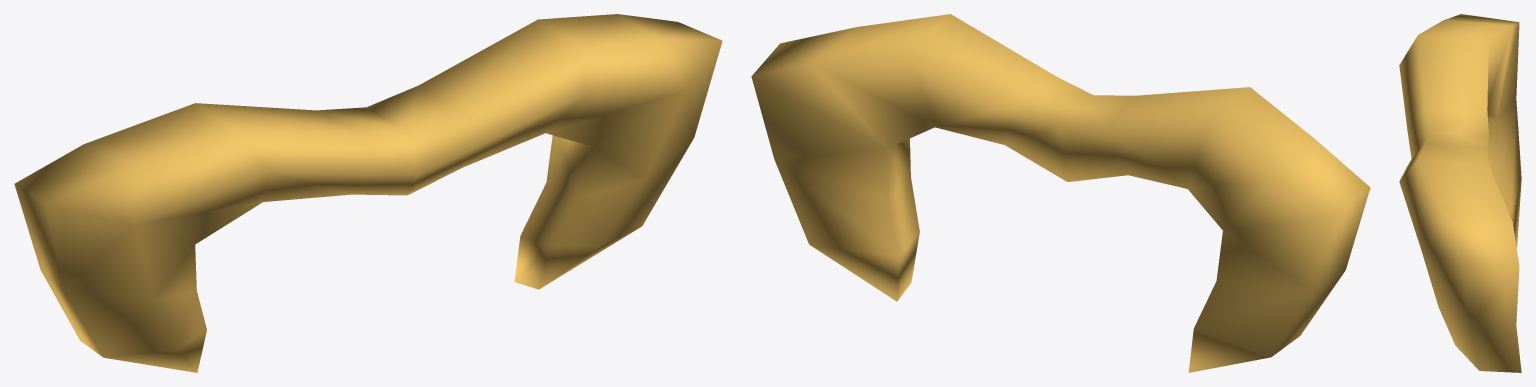
The model's file is Beard_Yellow_6.fbx.
3 renders of one model, left to right at view 1: azimuth 30°, elevation 25°; view 2: azimuth 150°, elevation 25°; view 3: azimuth 270°, elevation 25°, orthographic. The views are drawn at different scales.
Parts seen in each view (by area): view 1: Beard_Yellow_6; view 2: Beard_Yellow_6; view 3: Beard_Yellow_6.
Boxes of the visible parts, x1,y1,x2,y2 form: Beard_Yellow_6: (14, 14, 722, 372); Beard_Yellow_6: (751, 14, 1370, 372); Beard_Yellow_6: (1399, 14, 1521, 372).
Size of the model in its own units: 29.49 by 11.68 by 6.15.
